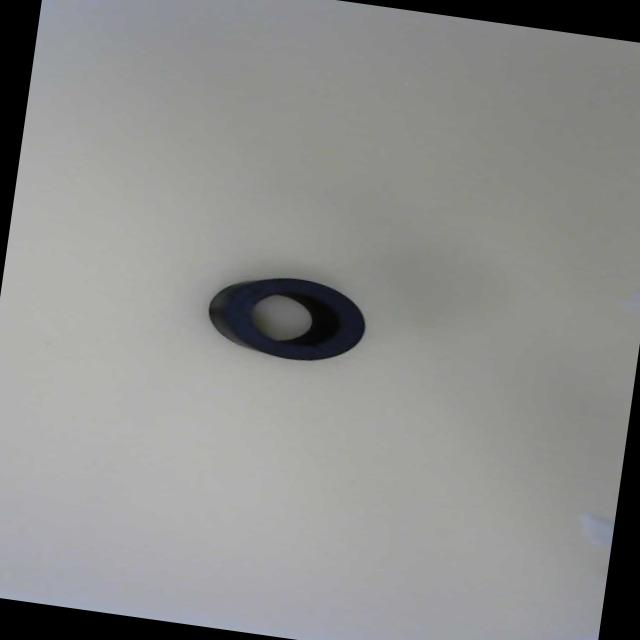ring: (221, 268, 374, 368)
